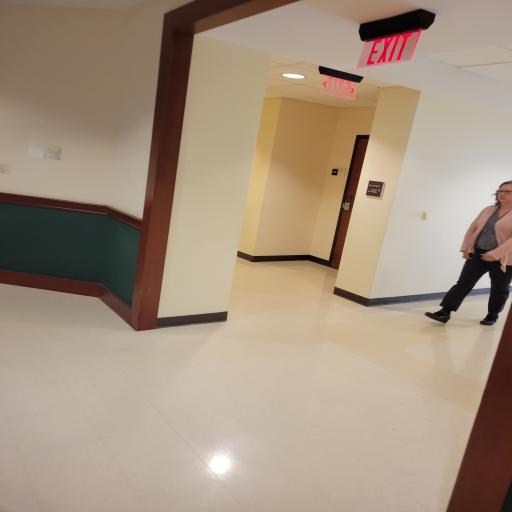exit sign: (350, 0, 440, 68), (313, 60, 379, 112)
